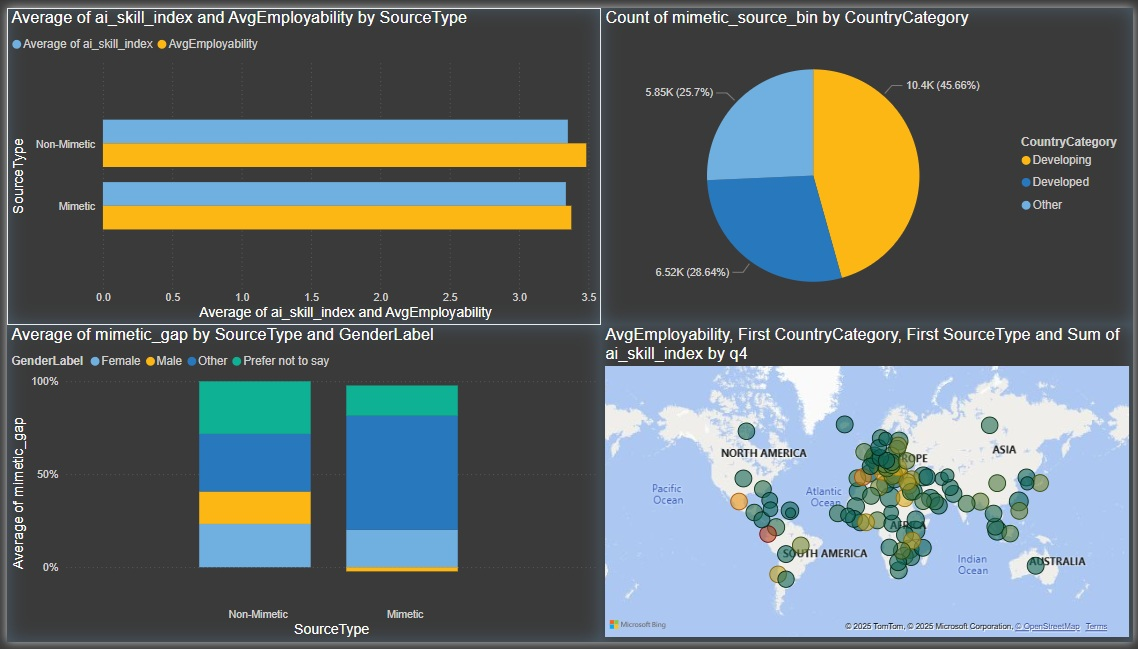

The dashboard page shown, as its layout file describes it:
{"tool":"powerbi","page":{"name":"Mimetic Patterns Across Regions","canvas":[1280,720],"ordinal":1},"visuals":[{"type":"clusteredBarChart","fields":{"Category":["survey_for_powerbi.SourceType"],"Y":["Avg(survey_for_powerbi.ai_skill_index)","survey_for_powerbi.AvgEmployability"]},"box":[0,0,674.7,359.8],"z":0},{"type":"hundredPercentStackedColumnChart","fields":{"Category":["survey_for_powerbi.SourceType"],"Series":["survey_for_powerbi.GenderLabel"],"Y":["Avg(survey_for_powerbi.mimetic_gap)"]},"box":[0,359.8,674.7,359.8],"z":1},{"type":"pieChart","fields":{"Category":["survey_for_powerbi.CountryCategory"],"Y":["CountNonNull(survey_for_powerbi.mimetic_source_bin)"]},"box":[674.7,0,605.3,359.8],"z":2},{"type":"map","fields":{"Category":["survey_for_powerbi.q4"],"Size":["survey_for_powerbi.AvgEmployability"]},"box":[674.7,359.8,605.3,359.8],"z":3}]}

Visuals, with their boxes in screenshot pixels (x1, y1, x2, y2), scaled from the page's 1280x720 canvas onto the 1138x649 screenshot:
clusteredBarChart - survey_for_powerbi.SourceType x Avg(survey_for_powerbi.ai_skill_index): box=[0, 0, 600, 324]
hundredPercentStackedColumnChart - survey_for_powerbi.SourceType x survey_for_powerbi.GenderLabel: box=[0, 324, 600, 648]
pieChart - survey_for_powerbi.CountryCategory x CountNonNull(survey_for_powerbi.mimetic_source_bin): box=[600, 0, 1137, 324]
map - survey_for_powerbi.q4 x survey_for_powerbi.AvgEmployability: box=[600, 324, 1137, 648]
